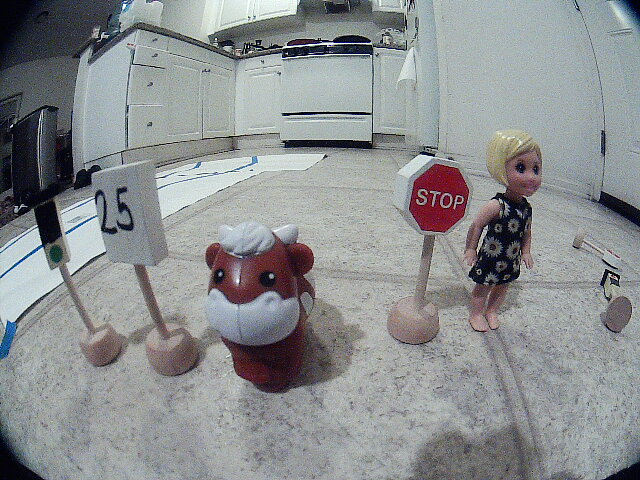Cow: (190, 208, 333, 411)
Green Traffic Light: (23, 188, 92, 282)
Person: (457, 125, 567, 349)
Speed Limit 25: (82, 162, 186, 280)
Stop Sign: (394, 149, 474, 244)
